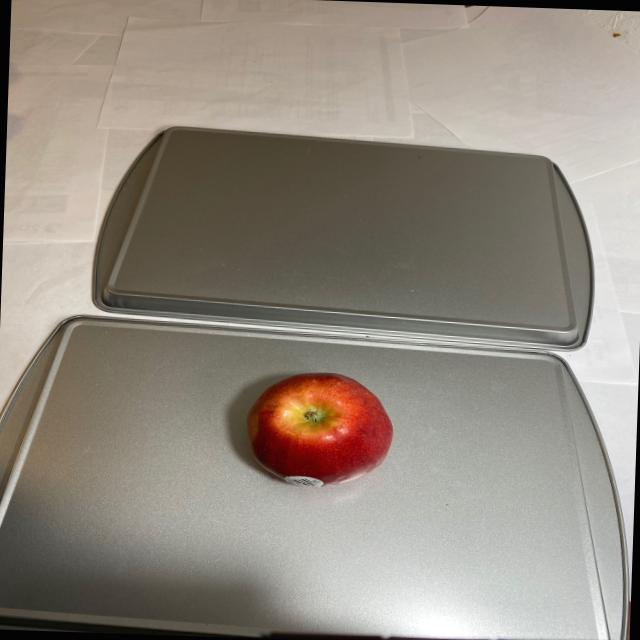apple: (238, 367, 396, 491)
